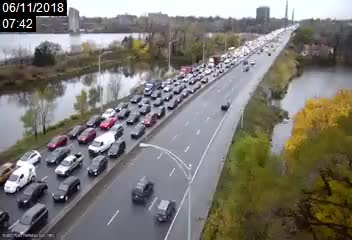congestion: (1, 139, 114, 236), (54, 100, 164, 162), (120, 74, 192, 110), (172, 53, 223, 84)
personal_car: (11, 203, 47, 237), (53, 176, 81, 202), (55, 151, 83, 177), (82, 153, 110, 179), (14, 145, 42, 171), (19, 178, 47, 204), (6, 167, 34, 193), (41, 145, 69, 171), (130, 174, 154, 204), (153, 198, 178, 225), (88, 133, 113, 155), (47, 133, 69, 150), (106, 141, 126, 158), (77, 127, 96, 144), (129, 123, 145, 139), (69, 123, 85, 138), (108, 123, 123, 139), (143, 111, 158, 126), (124, 110, 139, 125), (98, 116, 115, 129), (100, 107, 115, 118), (219, 99, 231, 111), (85, 114, 96, 127), (129, 93, 141, 104), (156, 105, 166, 118), (167, 98, 178, 109), (117, 108, 129, 118), (116, 101, 126, 110), (165, 91, 173, 101)
truck: (143, 80, 162, 97), (208, 55, 221, 69), (179, 66, 192, 78)
